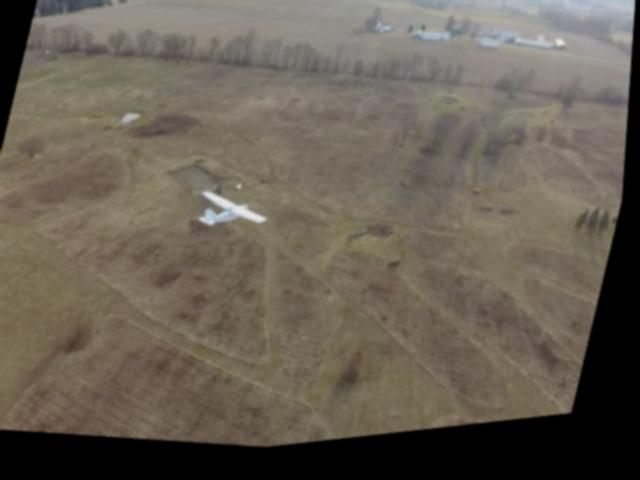uav: (186, 178, 282, 252)
